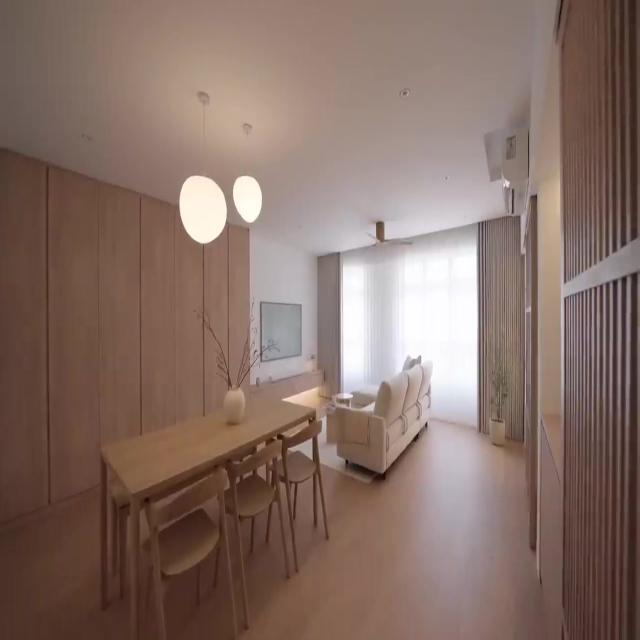obstacle: (99, 394, 320, 637), (327, 358, 432, 478)
